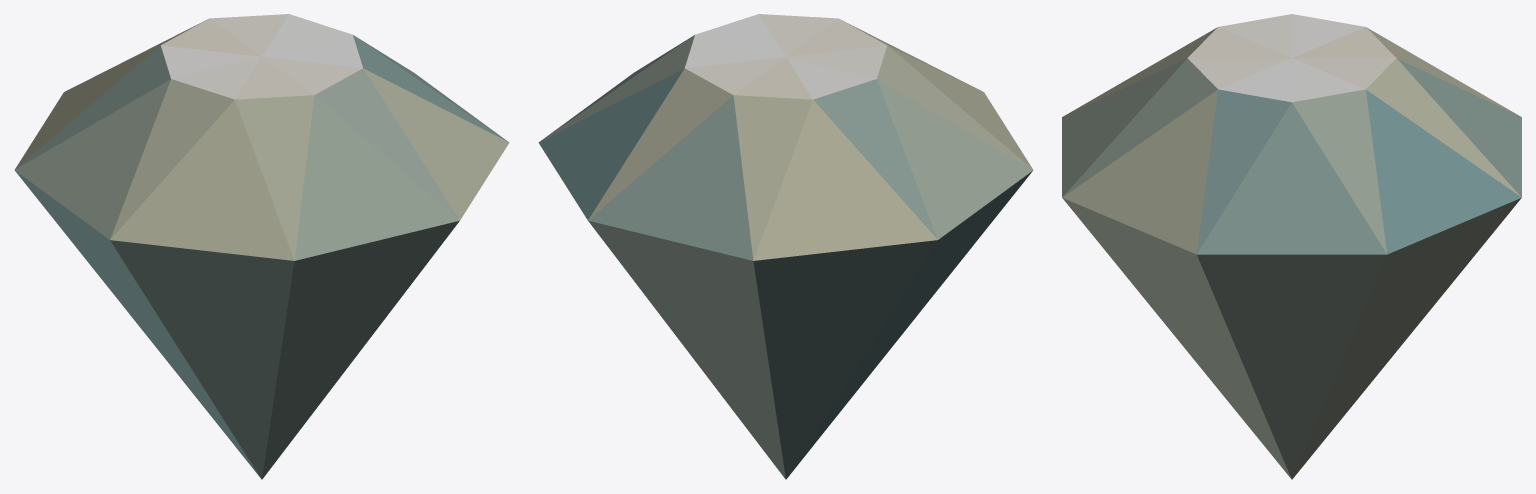
File: kristal.glb
3 views of the same model, side by side, from view 1: azimuth 30°, elevation 25°; view 2: azimuth 150°, elevation 25°; view 3: azimuth 270°, elevation 25° (orthographic).
Parts seen in each view (by area): view 1: Kristal; view 2: Kristal; view 3: Kristal.
Part boxes in pixels (left/top/right/bottom): Kristal: left=14, top=14, right=509, bottom=479; Kristal: left=538, top=14, right=1033, bottom=479; Kristal: left=1062, top=14, right=1521, bottom=479.
Size of the model in its own units: 1.85 by 1.87 by 1.85.
